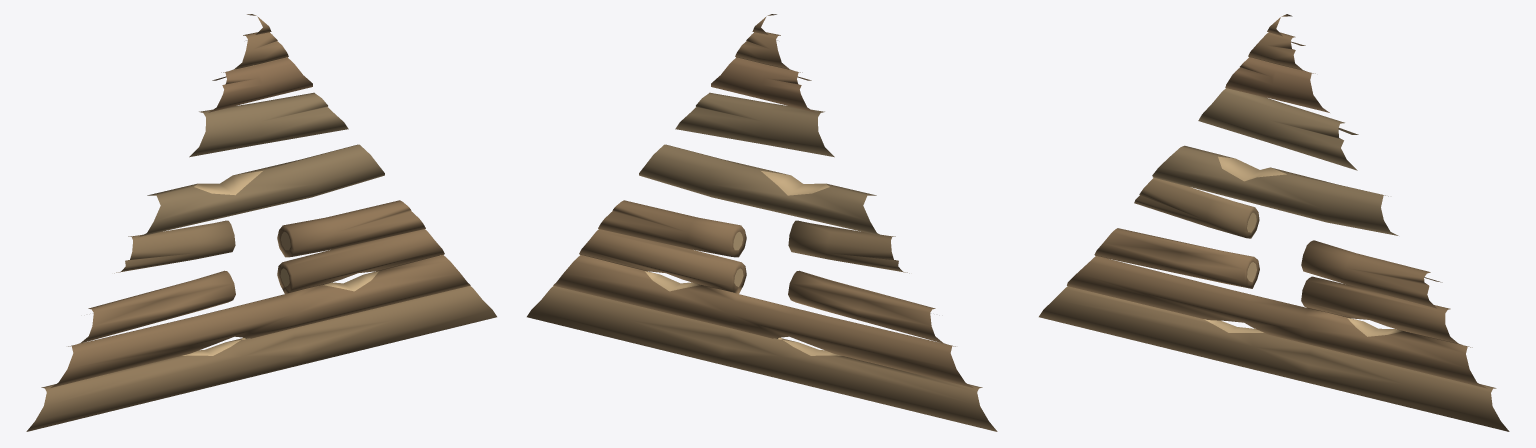
The model's file is rpgpp_av_roof_end_01_6x5_wall_window_03c.gltf.
3 renders of one model, left to right at view 1: azimuth 30°, elevation 25°; view 2: azimuth 150°, elevation 25°; view 3: azimuth 330°, elevation 25°, orthographic.
Parts seen in each view (by area): view 1: rpgpp_av_roof_end_01_6x5_wall_window_03c; view 2: rpgpp_av_roof_end_01_6x5_wall_window_03c; view 3: rpgpp_av_roof_end_01_6x5_wall_window_03c.
Part boxes in pixels (x1,y1,x2,y2): rpgpp_av_roof_end_01_6x5_wall_window_03c: [26, 14, 496, 431]; rpgpp_av_roof_end_01_6x5_wall_window_03c: [527, 14, 997, 431]; rpgpp_av_roof_end_01_6x5_wall_window_03c: [1039, 14, 1509, 431].
Bounding box in the file's own units: 0.0677 × 0.0486 × 0.00514.
Materials: 1 (1 with a texture image).
